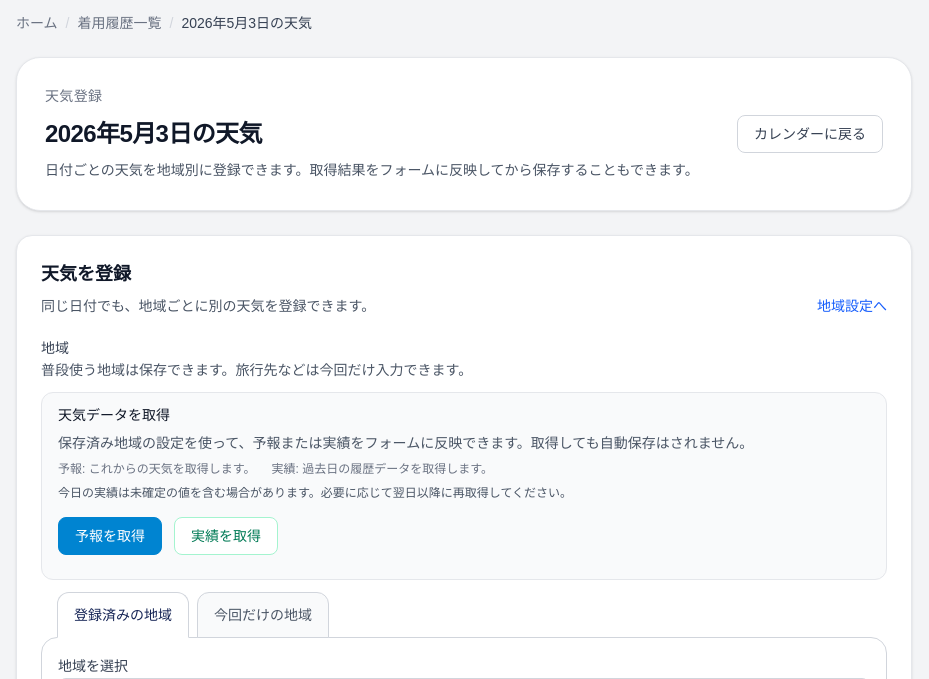
Test: WearLogWeatherPage Open-Meteo historical integration › 今回だけの地域では実績取得が disabled になる
The width and height of the screenshot is (929, 679).
Click the tab "今回だけの地域": (263, 615) top-left (197, 592), bottom-right (329, 638)
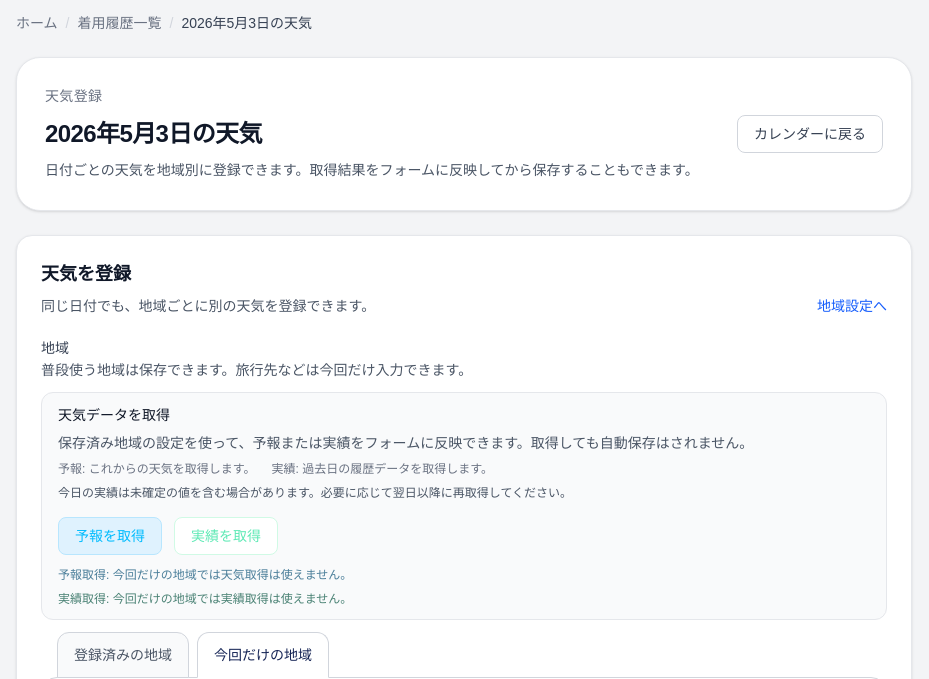
Now the button "実績を取得" is disabled, box top-left (174, 517), bottom-right (278, 555)
Now the text "今回だけの地域では実績取得は使えません。" is shown, box top-left (113, 592), bottom-right (352, 606)
Now the button "予報を取得" is disabled, box top-left (58, 517), bottom-right (162, 555)
